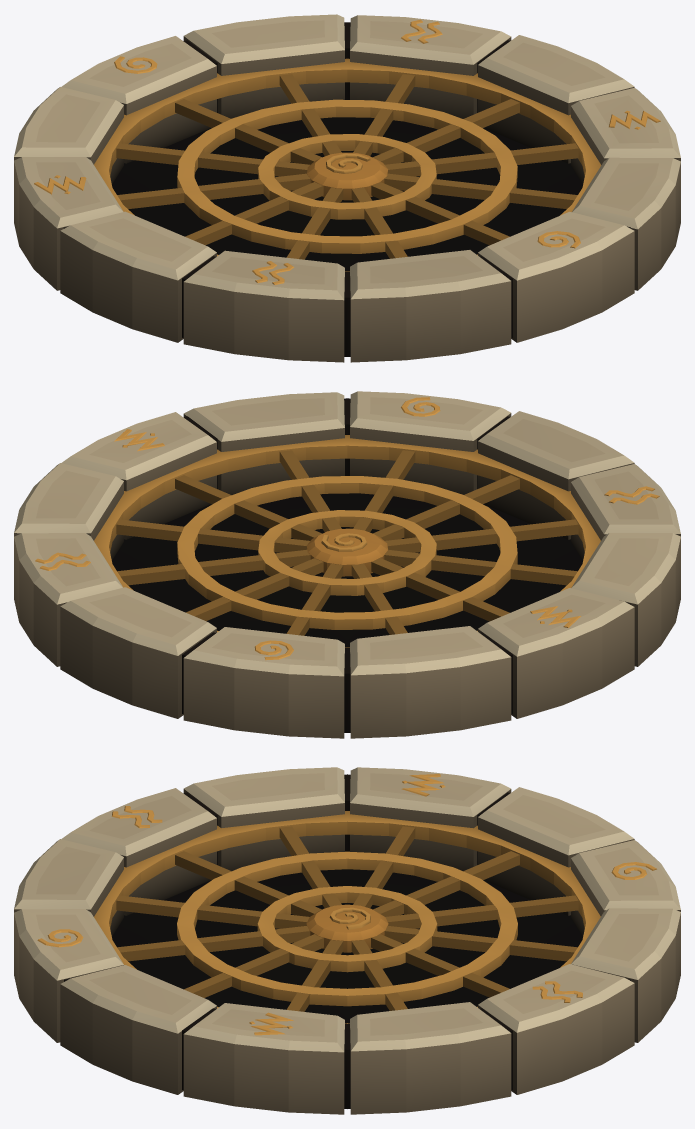
Rendered from updraft_vent.glb.
3 views of the same model, one above another, from view 1: azimuth 30°, elevation 25°; view 2: azimuth 150°, elevation 25°; view 3: azimuth 270°, elevation 25° (orthographic).
Parts seen in each view (by area): view 1: updraft_vent; view 2: updraft_vent; view 3: updraft_vent.
Boxes of the visible parts, box(x1,y1,x2,y2) form: updraft_vent: box(14, 14, 680, 362); updraft_vent: box(14, 391, 680, 738); updraft_vent: box(14, 767, 680, 1114).
Bounding box in the file's own units: 2.6 × 0.3 × 2.6.
